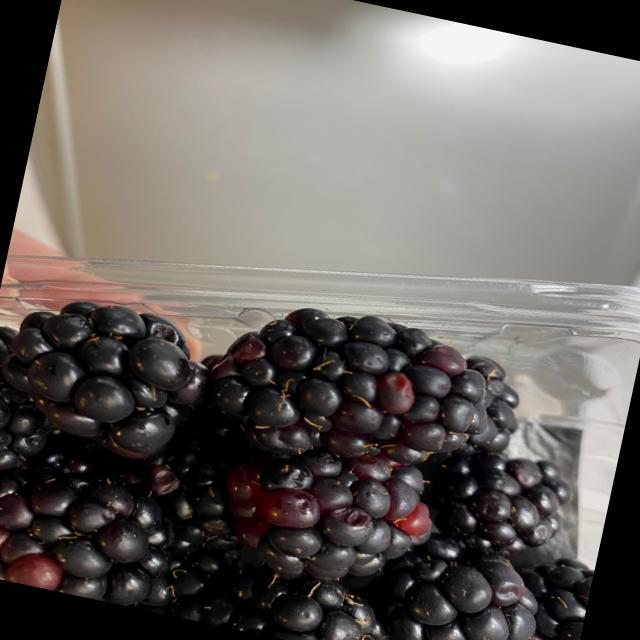blackberries: (0, 268, 630, 640)
